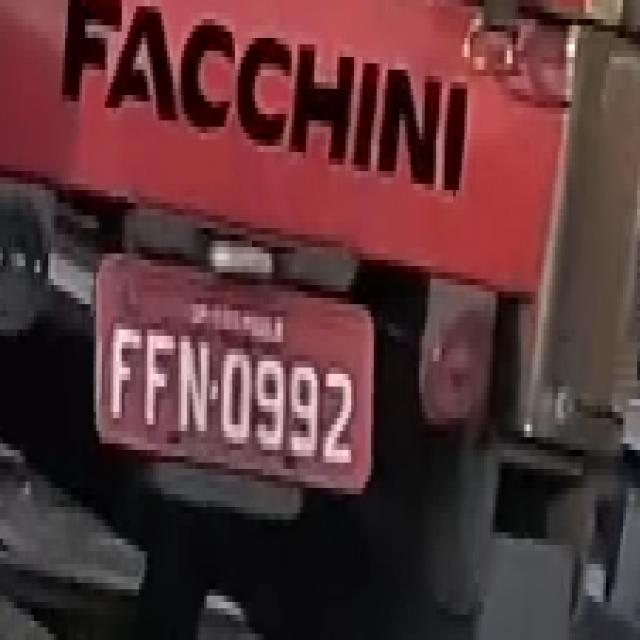Placa_mercosul_carro: (95, 250, 374, 493)
